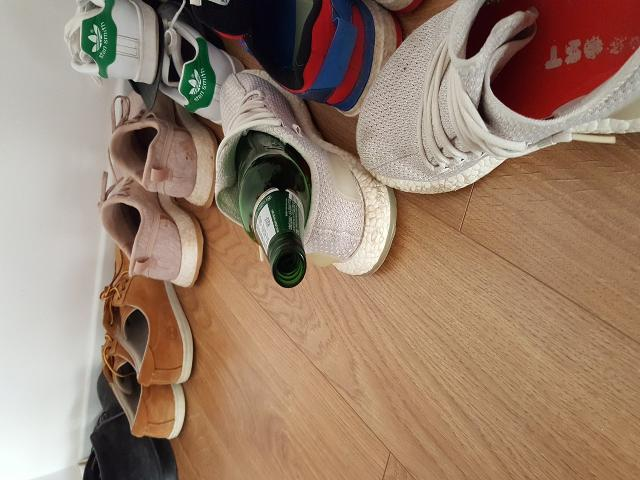beer: (234, 132, 308, 288)
